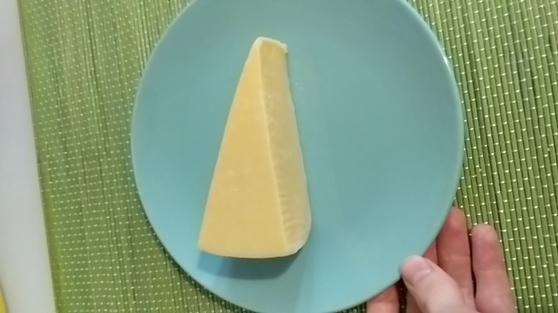cheese: (200, 40, 320, 262)
